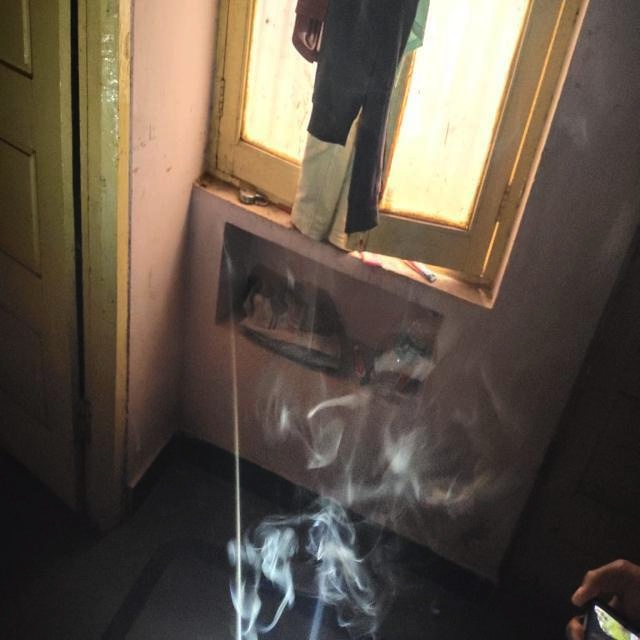smoke: (223, 304, 485, 640)
